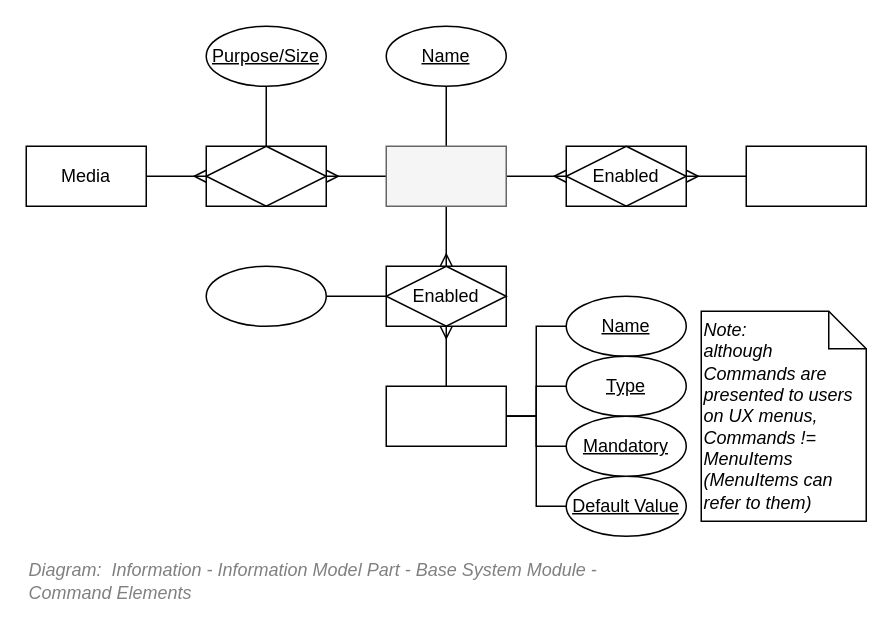
Some shapes in this 893 by 629 pixel diagram are drawn without their labels. Here are the shapes that lost their labels. From the top down, the centre of each, then its label:
At (x=265, y=175): "Image".
At (x=445, y=175): "Command".
At (x=805, y=175): "Alias".
At (x=265, y=295): "Order".
At (x=445, y=415): "Argument".
